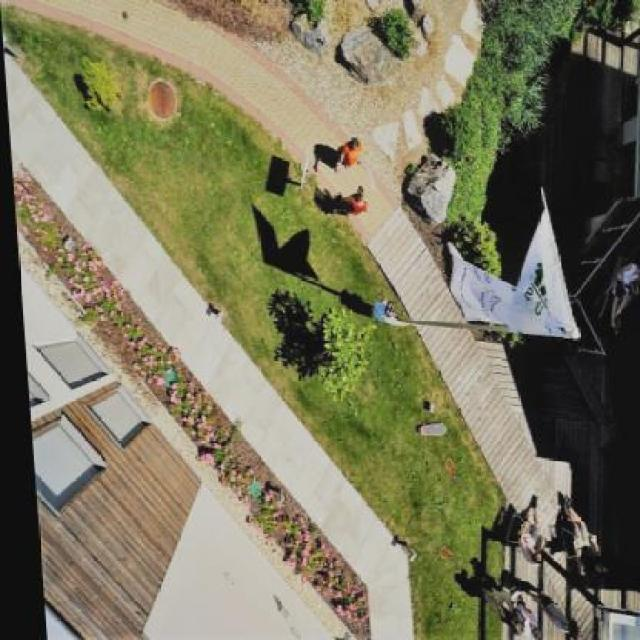Person: (325, 120, 367, 172), (362, 297, 413, 331), (336, 180, 372, 217)
